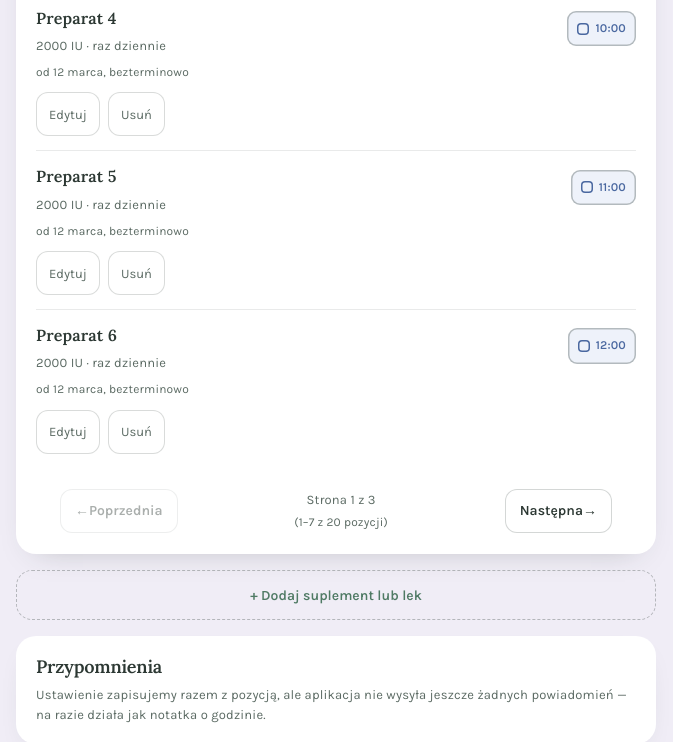
Test: the list is paginated › turns to the page a newly written position landed on
(page scrolled)
Expected: the text "Strona 1 z 3 (1–7 z 20 pozycji)" is shown, [294,488,388,534]
Click the button "+ Dodaj suplement lub lek".
click(336, 595)  # box [16,570,656,620]
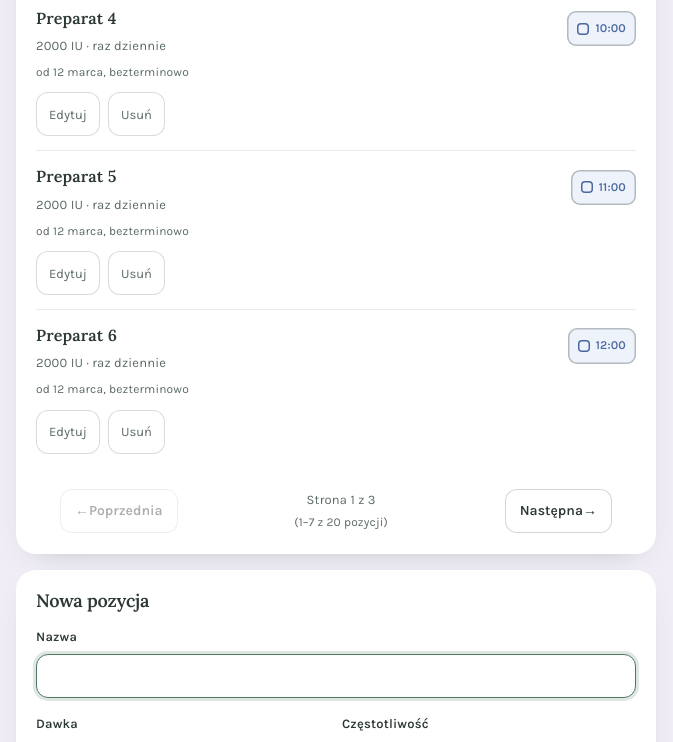
Type "Melatonina" into the field labelled "Nazwa".
click(336, 676); type("Melatonina")  # box [36,654,636,698]
(page scrolled)
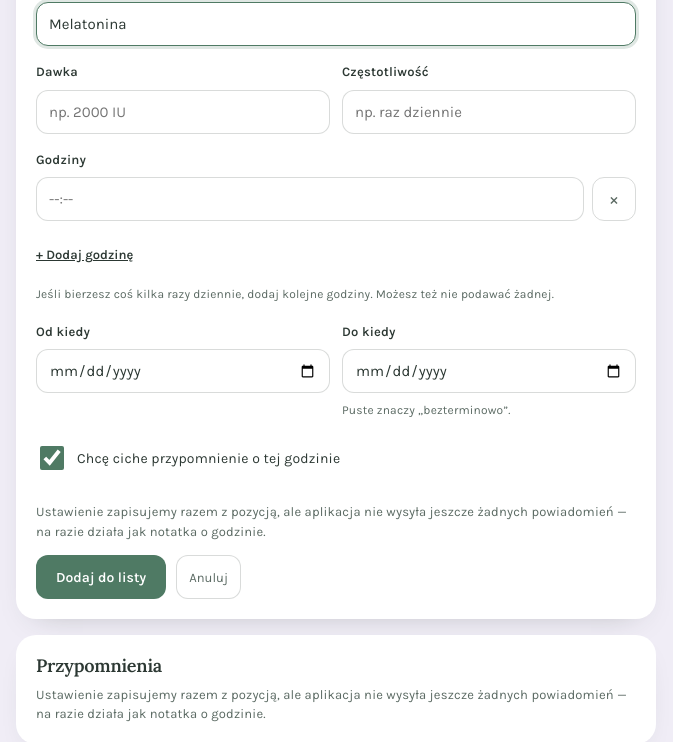
Click the button "Dodaj do listy".
click(101, 578)  # box [36,556,166,600]
(page scrolled)
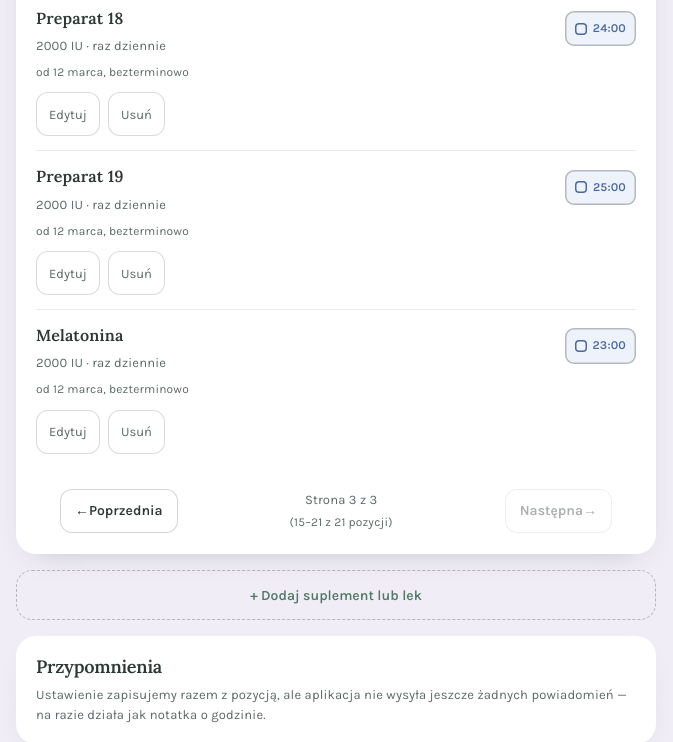
Result: the heading "Melatonina" is shown at [36,325,124,345]
Result: the text "Strona 3 z 3 (15–21 z 21 pozycji)" is shown at [290,488,393,534]
